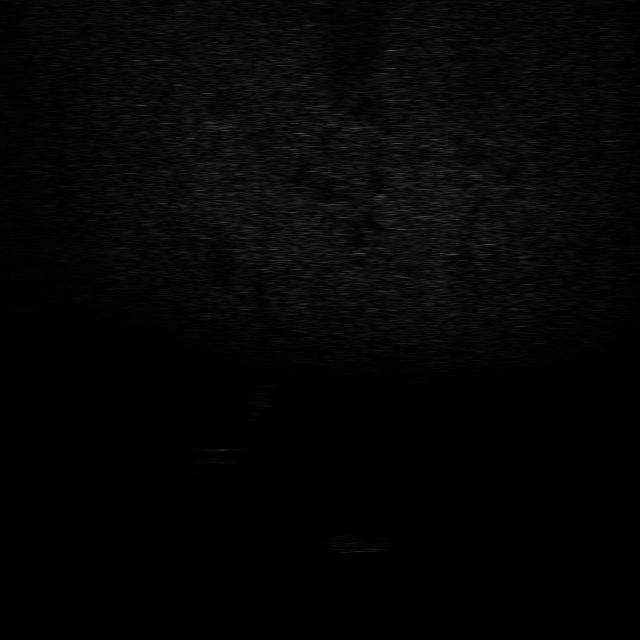ball: (194, 440, 248, 467)
circle cage: (320, 528, 394, 556)
human body: (240, 378, 278, 427)
